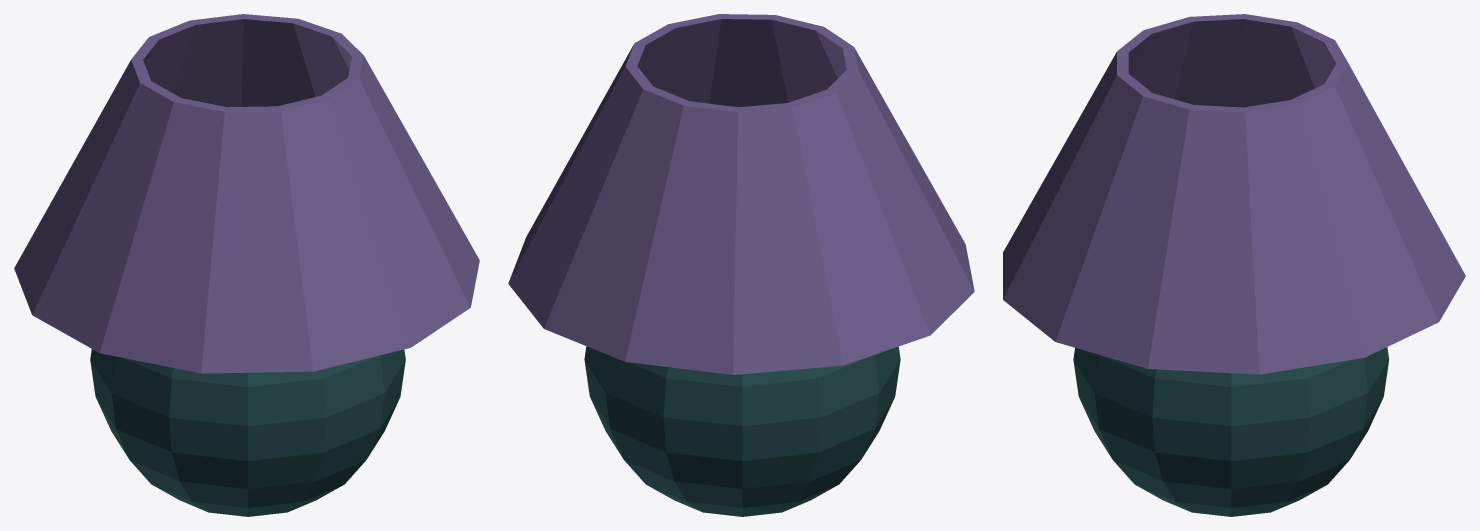
Rendered from BasicVaseLamp1.fbx.
3 renders of one model, left to right at view 1: azimuth 30°, elevation 25°; view 2: azimuth 150°, elevation 25°; view 3: azimuth 270°, elevation 25°, orthographic.
Visible parts, largest first — view 1: BasicLamp1; view 2: BasicLamp1; view 3: BasicLamp1.
Part boxes in pixels (<box>): BasicLamp1: <box>14,14,479,516</box>; BasicLamp1: <box>508,14,974,516</box>; BasicLamp1: <box>1003,14,1465,516</box>.
Size of the model in its own units: 293 by 307 by 295.
